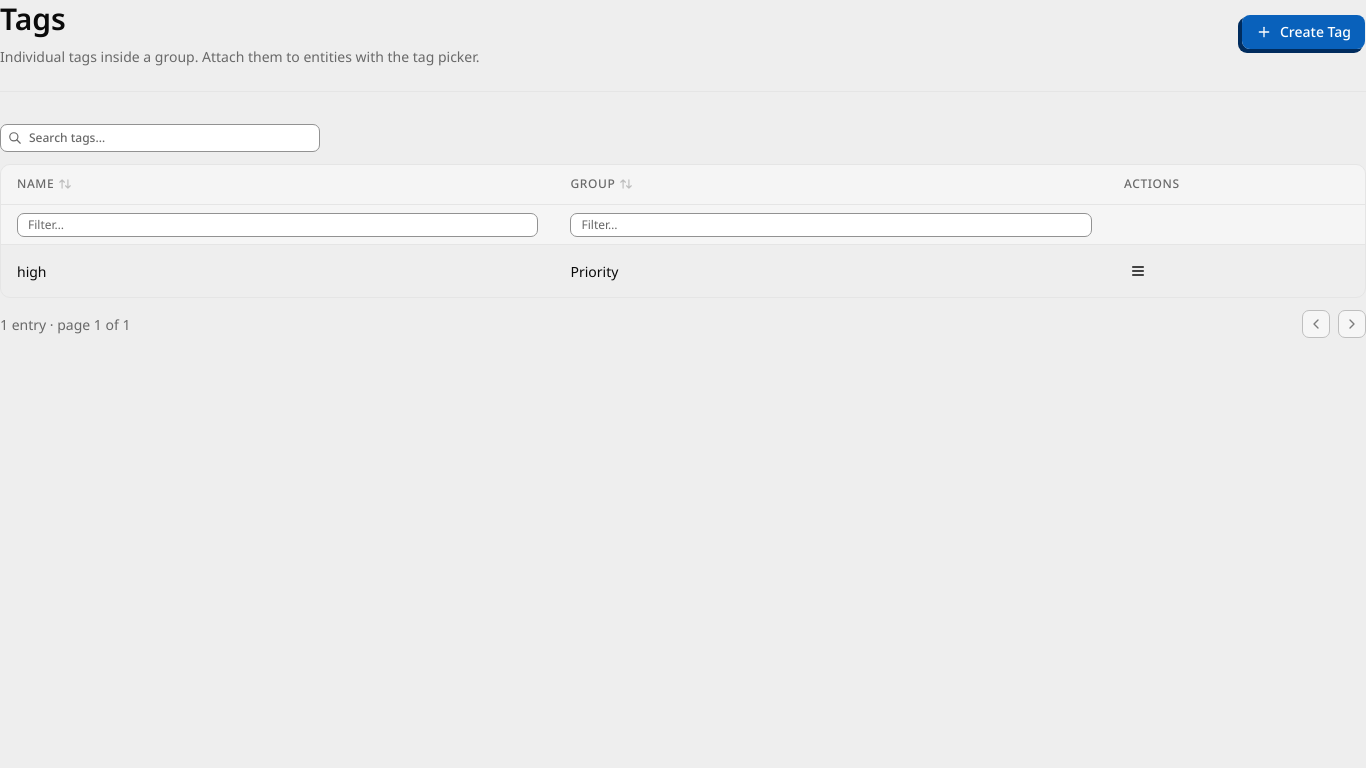
Test: TagsPage › opens the create dialog with a name field and a group picker
Expected: the text "high" is shown, [1,244,554,297]
Click the button "Create Tag" at (1303, 32), box [1241,14,1365,50]
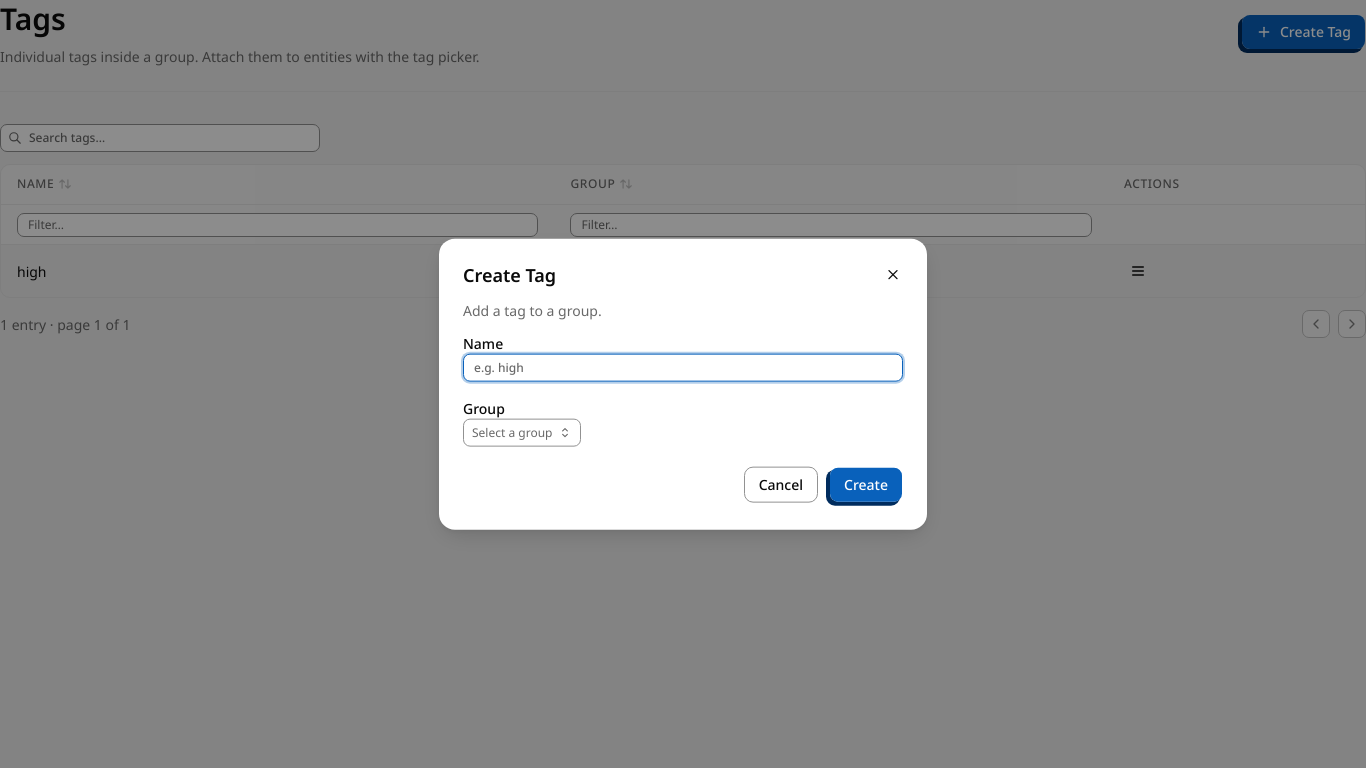
Expected: the field labelled "Name" is shown, [463,353,903,381]
Expected: the dropdown labelled "group" is shown, [463,418,581,446]
